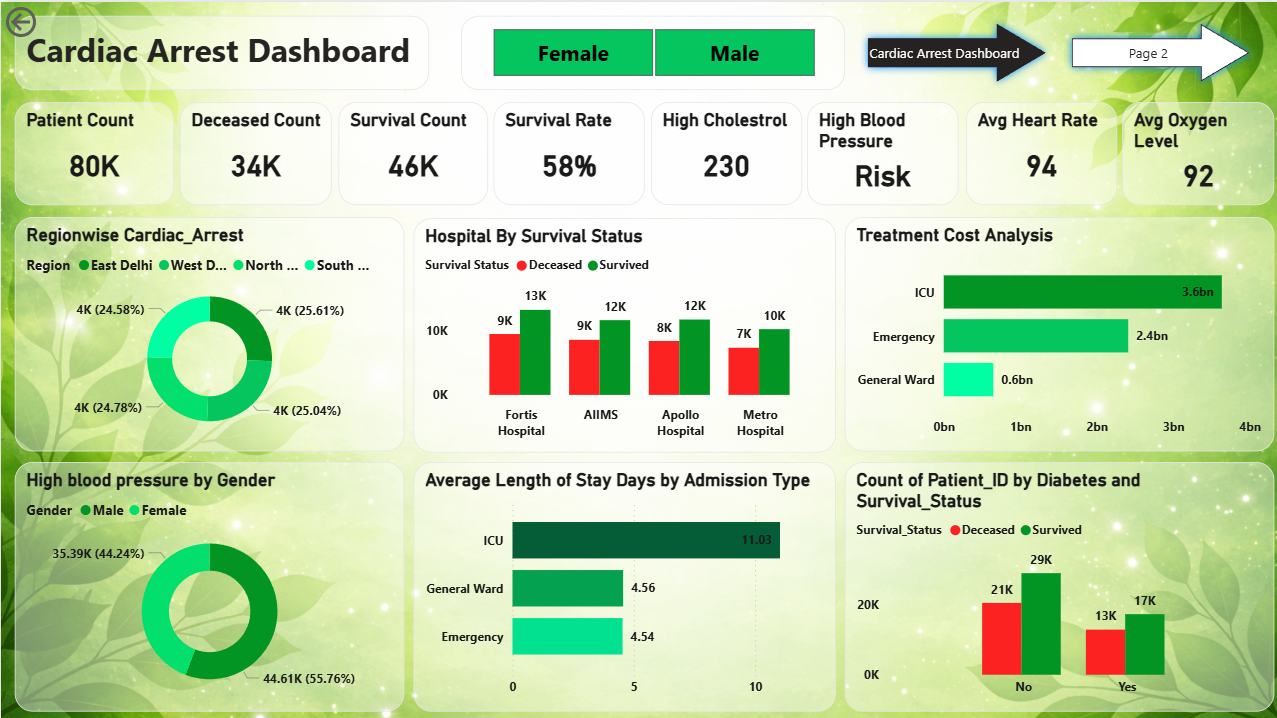

This screenshot's page, from the dashboard's own definition file:
{"tool":"powerbi","page":{"name":"Cardiac Arrest Dashboard","canvas":[1280,720],"ordinal":0},"visuals":[{"type":"clusteredColumnChart","title":"Hospital By Survival Status","fields":{"Category":["Cardiac_arrest_data_internship_.Hospital"],"Y":["CountNonNull(Cardiac_arrest_data_internship_.Patient_ID)"],"Series":["Cardiac_arrest_data_internship_.Survival_Status"]},"box":[413,216.8,422.6,234.6],"z":0},{"type":"donutChart","title":"Regionwise Cardiac_Arrest ","fields":{"Category":["Cardiac_arrest_data_internship_.Region"],"Y":["Sum(Cardiac_arrest_data_internship_.Cardiac_Arrest)"]},"box":[13.7,215.4,389.7,234.6],"z":1000},{"type":"clusteredBarChart","title":"Treatment Cost Analysis","fields":{"Category":["Cardiac_arrest_data_internship_.Admission_Type"],"Y":["Sum(Cardiac_arrest_data_internship_.Treatment_Cost_INR)"]},"box":[843.9,215.4,429.5,234.6],"z":2000},{"type":"slicer","fields":{"Values":["Cardiac_arrest_data_internship_.Gender"]},"box":[459.7,13.7,384.2,74.1],"z":3000},{"type":"textbox","box":[13.7,13.7,414.4,74.1],"z":4000},{"type":"actionButton","box":[0,0,100,40],"z":5000},{"type":"donutChart","title":"High blood pressure by Gender","fields":{"Category":["Cardiac_arrest_data_internship_.Gender"],"Y":["CountNonNull(Cardiac_arrest_data_internship_.blood pressure)"]},"box":[13.7,459.7,389.7,249.7],"z":6000},{"type":"card","title":"Survival Count","fields":{"Values":["Sum(Cardiac_arrest_data_internship_.Survivalcount)"]},"box":[337.6,100.2,149.6,102.9],"z":7000},{"type":"card","title":"Deceased  Count","fields":{"Values":["Sum(Cardiac_arrest_data_internship_.Deceasedcount)"]},"box":[178.4,100.2,152.3,102.9],"z":8000},{"type":"card","title":"Patient  Count","fields":{"Values":["CountNonNull(Cardiac_arrest_data_internship_.Patient_ID)"]},"box":[13.7,100.2,159.2,102.9],"z":9000},{"type":"card","title":"Survival Rate","fields":{"Values":["Cardiac_arrest_data_internship_.survivalrate"]},"box":[492.6,100.2,150.9,102.9],"z":10000},{"type":"clusteredBarChart","title":"Average Length of Stay Days by Admission Type","fields":{"Y":["Avg(Cardiac_arrest_data_internship_.Length_of_Stay_Days)"],"Category":["Cardiac_arrest_data_internship_.Admission_Type"]},"box":[413,459.7,422.6,249.7],"z":11000},{"type":"clusteredColumnChart","fields":{"Category":["Cardiac_arrest_data_internship_.Diabetes"],"Y":["CountNonNull(Cardiac_arrest_data_internship_.Patient_ID)"],"Series":["Cardiac_arrest_data_internship_.Survival_Status"]},"box":[843.9,459.7,429.5,249.7],"z":12000},{"type":"card","title":"High Cholestrol","fields":{"Values":["Avg(Cardiac_arrest_data_internship_.Cholesterol_Level)"]},"box":[650.4,100.2,150.9,102.9],"z":13000},{"type":"card","title":"High Blood Pressure","fields":{"Values":["Min(Cardiac_arrest_data_internship_.blood pressure)"]},"box":[806.9,100.2,150.9,102.9],"z":14000},{"type":"card","title":"Avg Heart Rate","fields":{"Values":["Avg(Cardiac_arrest_data_internship_.Heart_Rate)"]},"box":[964.7,100.2,150.9,102.9],"z":15000},{"type":"card","title":"Avg Oxygen Level","fields":{"Values":["Avg(Cardiac_arrest_data_internship_.Oxygen_Level)"]},"box":[1121.1,100.2,152.3,102.9],"z":16000},{"type":"pageNavigator","box":[859,13.7,399.3,74.1],"z":17000}]}

Visuals, with their boxes in screenshot pixels (x1, y1, x2, y2), scaled from the page's 1280x720 canvas onto the 1277x718 screenshot:
"Hospital By Survival Status" clusteredColumnChart: <box>412,216,834,450</box>
"Regionwise Cardiac_Arrest " donutChart: <box>14,215,402,449</box>
"Treatment Cost Analysis" clusteredBarChart: <box>842,215,1270,449</box>
slicer - Cardiac_arrest_data_internship_.Gender: <box>459,14,842,88</box>
textbox: <box>14,14,427,88</box>
actionButton: <box>0,0,100,40</box>
"High blood pressure by Gender" donutChart: <box>14,458,402,707</box>
"Survival Count" card: <box>337,100,486,203</box>
"Deceased  Count" card: <box>178,100,330,203</box>
"Patient  Count" card: <box>14,100,172,203</box>
"Survival Rate" card: <box>491,100,642,203</box>
"Average Length of Stay Days by Admission Type" clusteredBarChart: <box>412,458,834,707</box>
clusteredColumnChart - Cardiac_arrest_data_internship_.Diabetes x CountNonNull(Cardiac_arrest_data_internship_.Patient_ID): <box>842,458,1270,707</box>
"High Cholestrol" card: <box>649,100,799,203</box>
"High Blood Pressure" card: <box>805,100,956,203</box>
"Avg Heart Rate" card: <box>962,100,1113,203</box>
"Avg Oxygen Level" card: <box>1118,100,1270,203</box>
pageNavigator: <box>857,14,1255,88</box>
